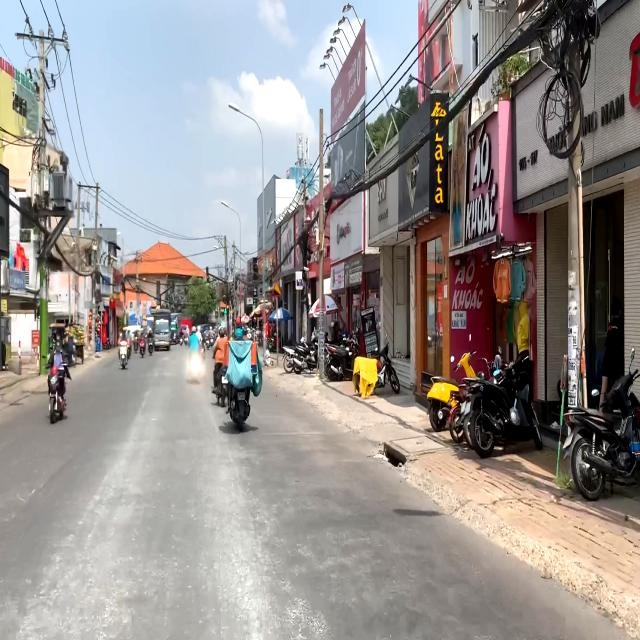bien_nguy_hiem: (271, 281, 282, 297)
